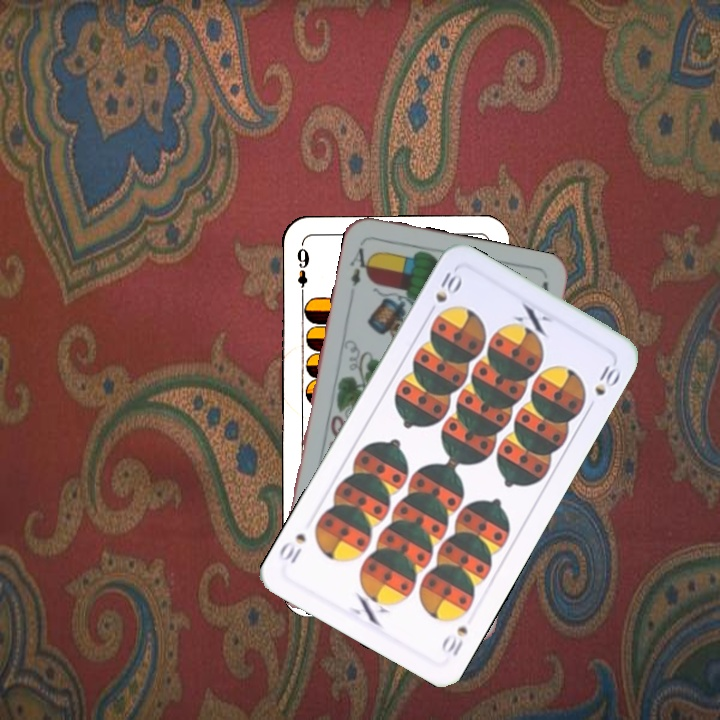E9: (293, 241, 312, 300)
EA: (346, 244, 375, 289)
S10: (423, 265, 464, 319), (437, 622, 470, 660)
